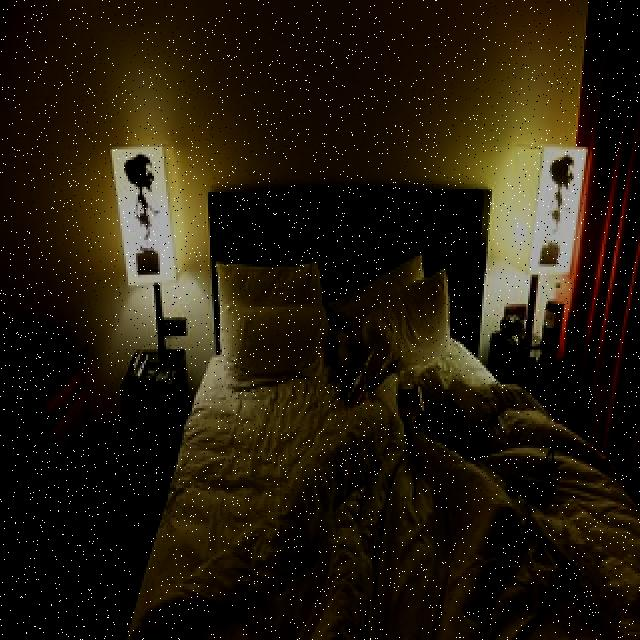bed: (125, 258, 639, 640)
